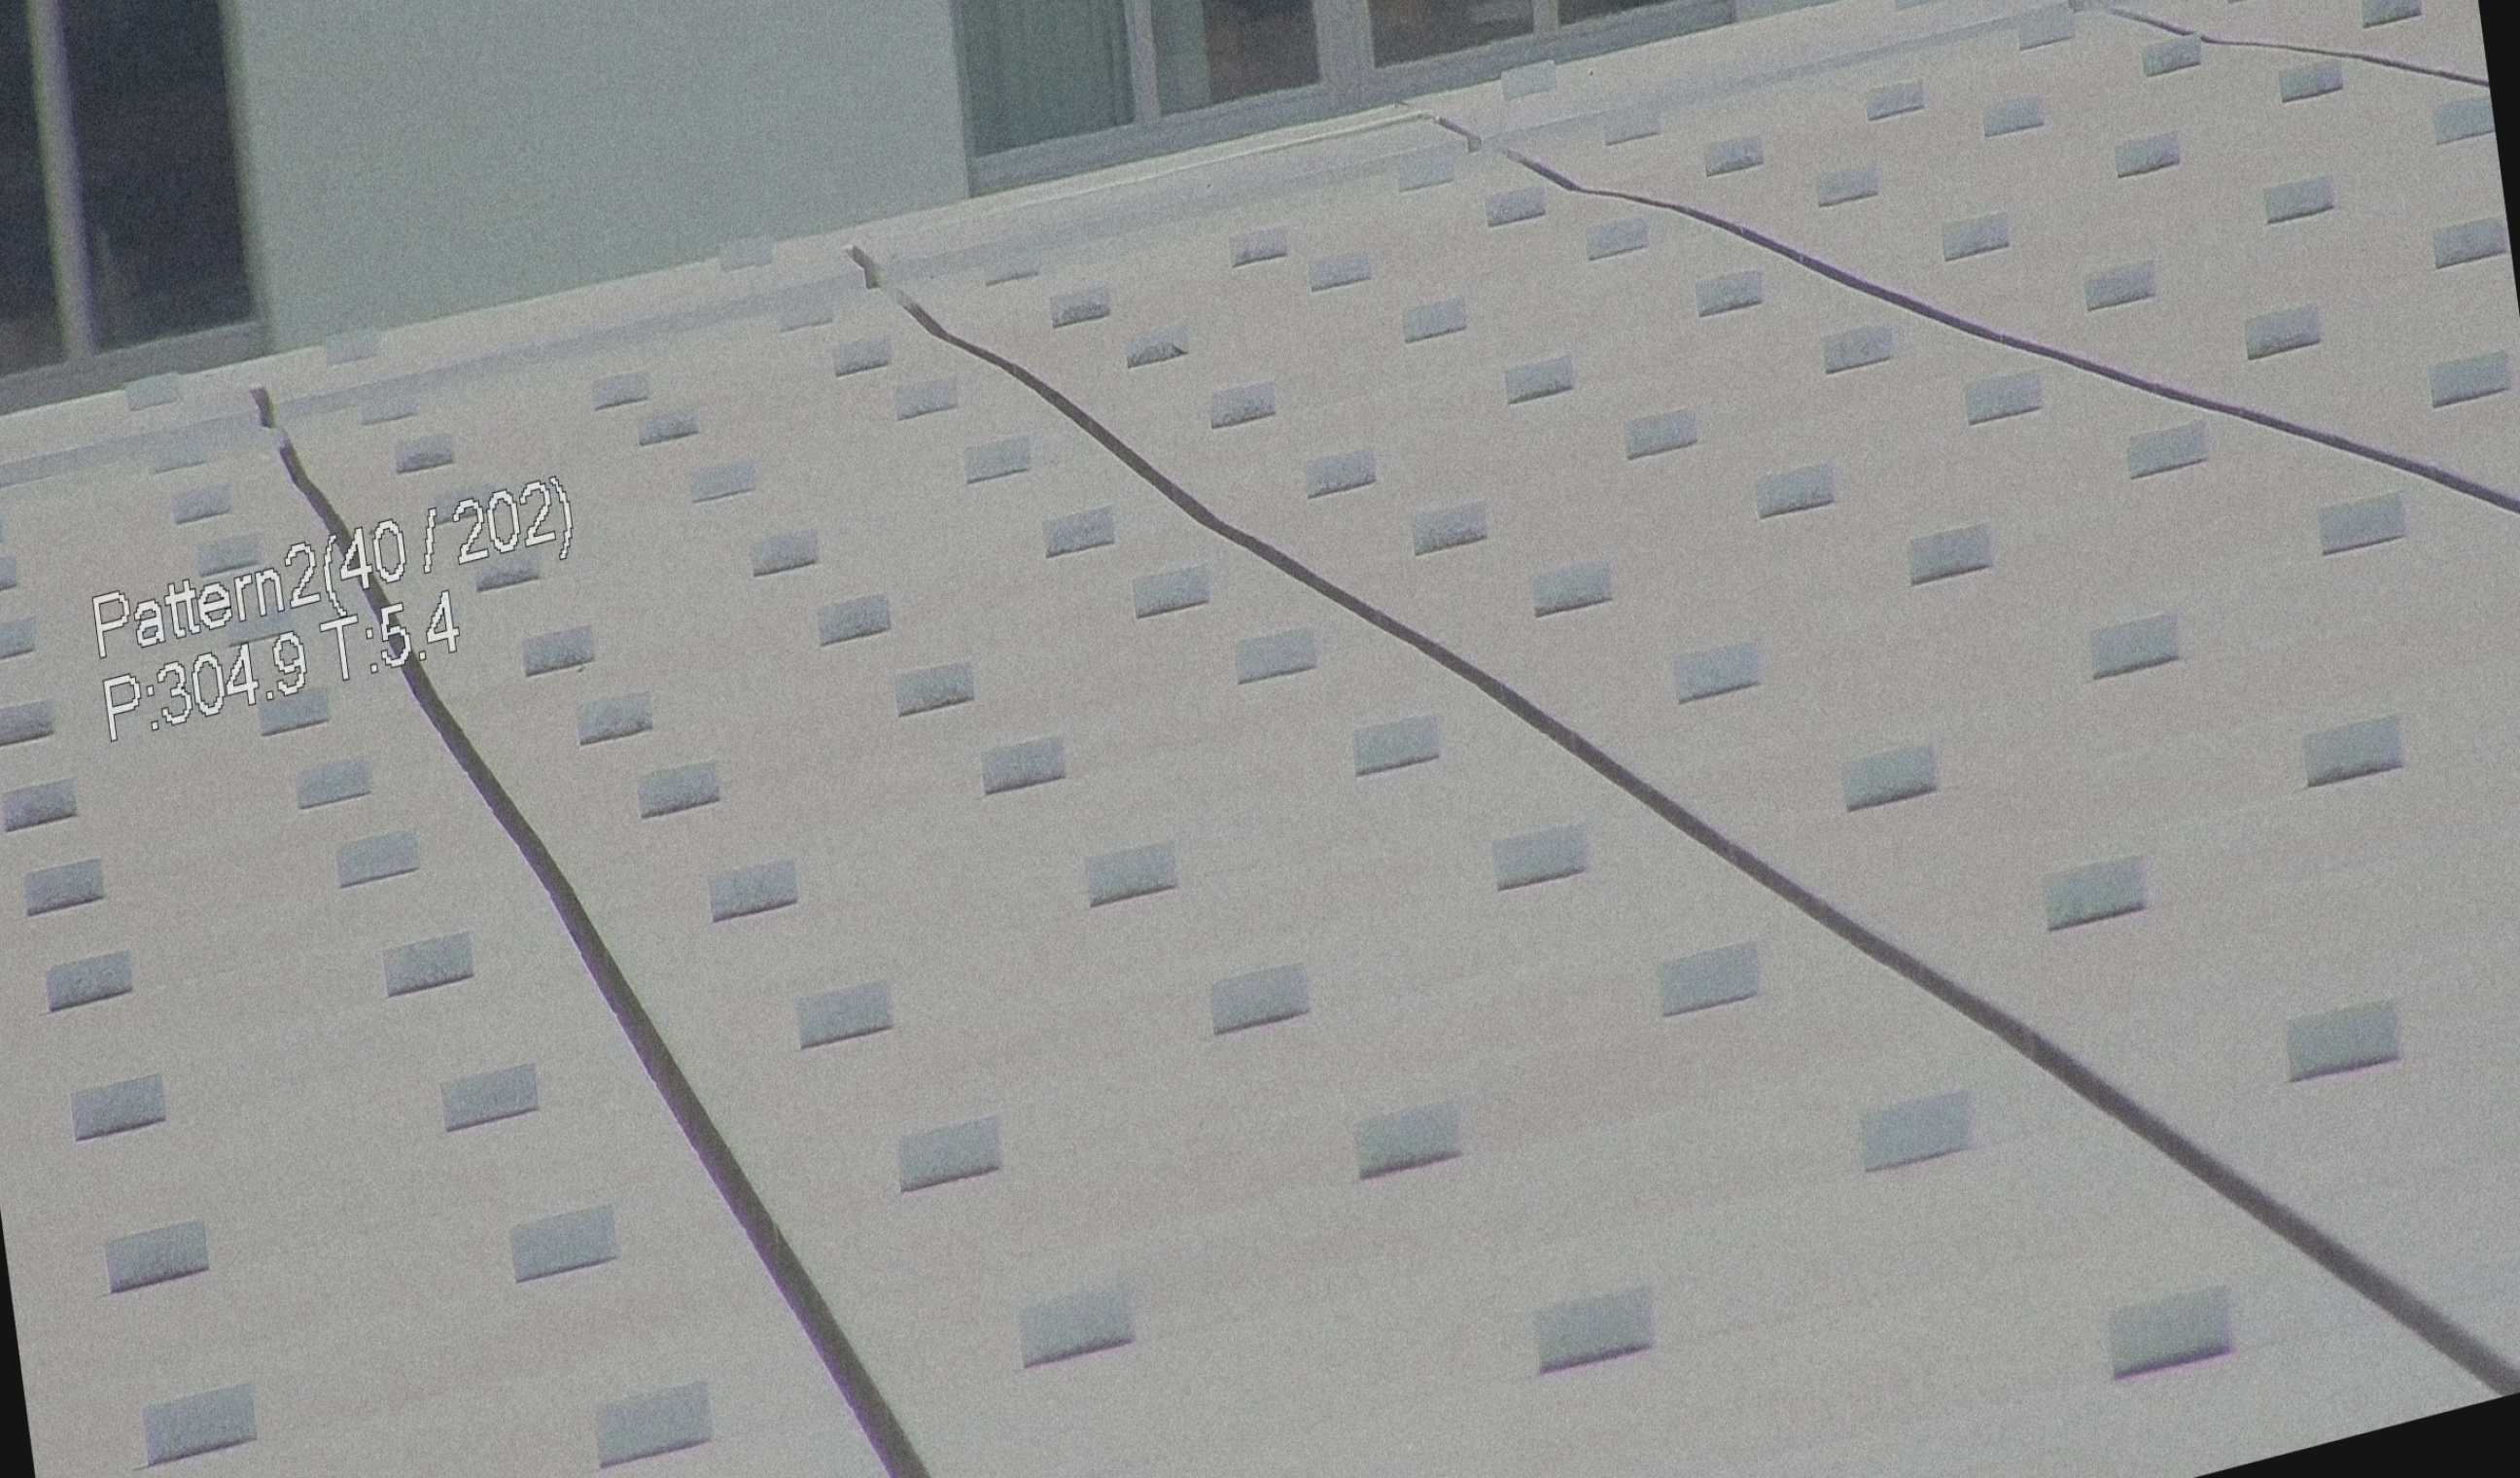Other: (225, 366, 375, 604)
